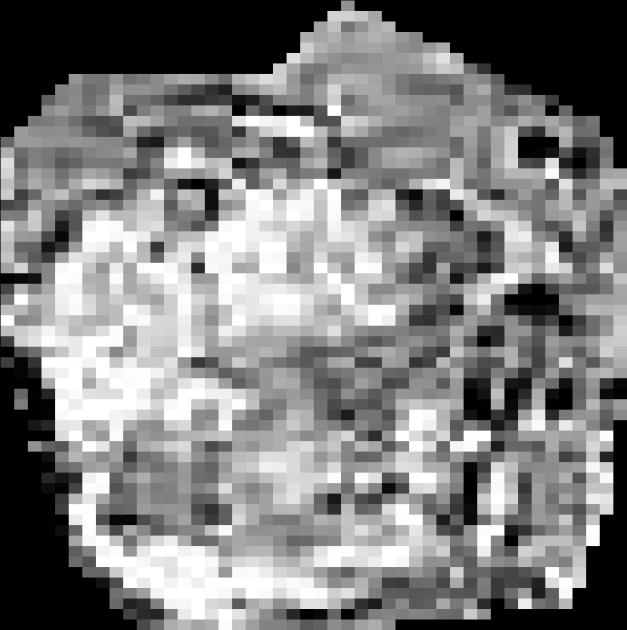tumor_good_chance: (1, 0, 627, 630)
